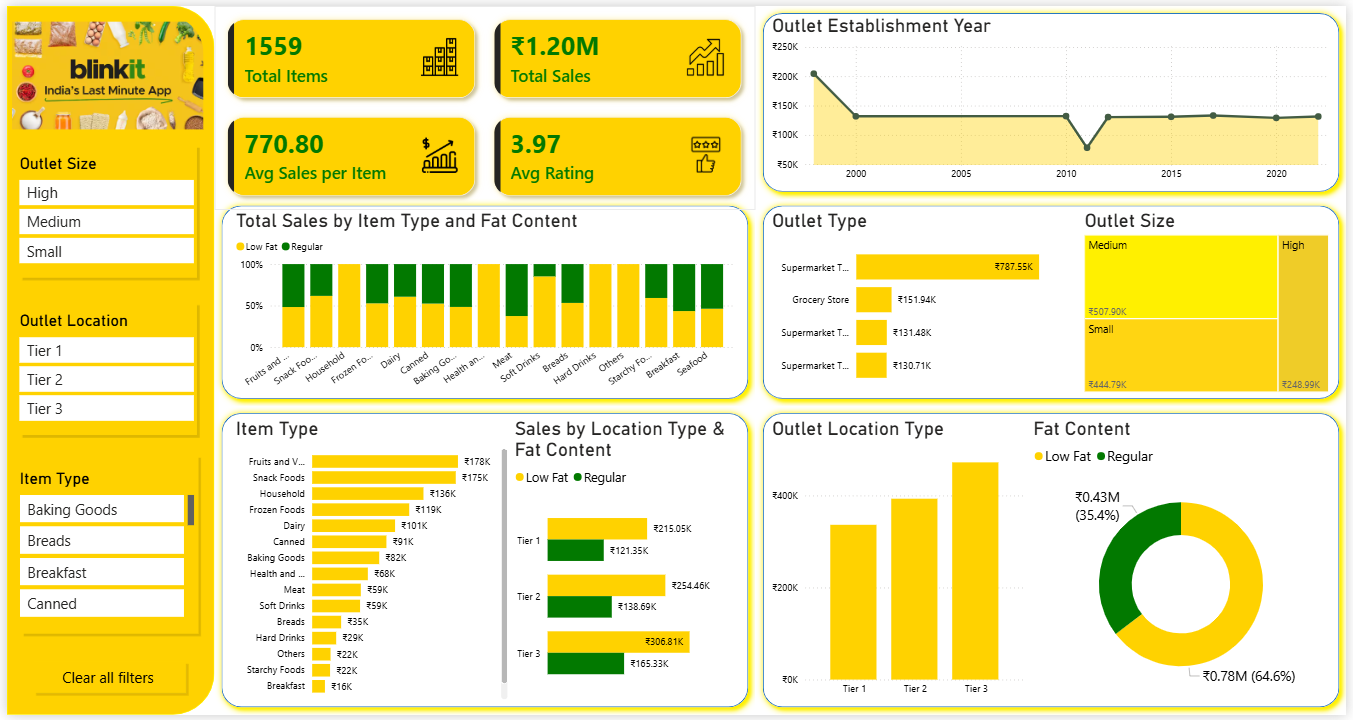

What the dashboard file says about the page in this screenshot:
{"tool":"powerbi","page":{"name":"Page 1","canvas":[1700,900],"ordinal":0},"visuals":[{"type":"shape","box":[0,0,263.3,900],"z":0},{"type":"shape","box":[11.7,171.7,235,178.3],"z":1000},{"type":"shape","box":[950,0,750,245],"z":2000},{"type":"shape","box":[263.3,245,686.7,263.3],"z":3000},{"type":"shape","box":[950,245,750,263.3],"z":4000},{"type":"shape","box":[950,508.3,750,391.7],"z":5000},{"type":"cardVisual","fields":{"Data":["public blinkit_data.No. of items","public blinkit_data.Total Sales","public blinkit_data.Avg Sales","public blinkit_data.Avg Rating"]},"box":[264,0,686,258],"z":6000},{"type":"shape","box":[263.3,508.3,686.7,391.7],"z":7000},{"type":"donutChart","title":"Fat Content","fields":{"Category":["public blinkit_data.item_fat_content"],"Y":["public blinkit_data.Total Sales"]},"box":[1298.3,521.7,385,363.3],"z":8000},{"type":"clusteredBarChart","title":"Outlet Type","fields":{"Category":["public blinkit_data.outlet_type"],"Y":["public blinkit_data.Total Sales"]},"box":[966.7,258.3,396.7,236.7],"z":9000},{"type":"clusteredBarChart","title":"Item Type","fields":{"Y":["public blinkit_data.Total Sales"],"Category":["public blinkit_data.item_type"]},"box":[285,521.7,355,363.3],"z":10000},{"type":"lineChart","title":"Outlet Establishment Year","fields":{"Y":["public blinkit_data.Total Sales"],"Category":["public blinkit_data.outlet_establishment_year"]},"box":[966.7,11.7,716.7,220],"z":11000},{"type":"clusteredColumnChart","title":"Outlet Location Type","fields":{"Y":["public blinkit_data.Total Sales"],"Category":["public blinkit_data.outlet_location_type"]},"box":[966.7,521.7,331.7,363.3],"z":12000},{"type":"treemap","title":"Outlet Size","fields":{"Values":["public blinkit_data.Total Sales"],"Group":["public blinkit_data.outlet_size"]},"box":[1363.3,258.3,320,236.7],"z":13000},{"type":"clusteredBarChart","title":"Sales by Location Type & Fat Content","fields":{"Series":["public blinkit_data.item_fat_content"],"Category":["public blinkit_data.outlet_location_type"],"Y":["public blinkit_data.Total Sales"]},"box":[640,521.7,288.3,363.3],"z":14000},{"type":"hundredPercentStackedColumnChart","title":"Total Sales by Item Type and Fat Content","fields":{"Y":["public blinkit_data.Total Sales"],"Category":["public blinkit_data.item_type"],"Series":["public blinkit_data.item_fat_content"]},"box":[285,258.3,643.3,236.7],"z":15000},{"type":"image","box":[6.7,11.7,243.3,155],"z":16000},{"type":"listSlicer","title":"Outlet Size","fields":{"Values":["public blinkit_data.outlet_size"]},"box":[11.7,186.7,231.7,145],"z":17000},{"type":"shape","box":[11,371,235,178.3],"z":18000},{"type":"listSlicer","title":"Outlet Location","fields":{"Values":["public blinkit_data.outlet_location_type"]},"box":[11.7,386.7,231.7,145],"z":19000},{"type":"shape","box":[13.3,565,235,236.7],"z":20000},{"type":"listSlicer","title":"Item Type","fields":{"Values":["public blinkit_data.item_type"]},"box":[11.7,586.7,231.7,193.3],"z":21000},{"type":"actionButton","box":[28.3,826.7,203.3,50],"z":22000}]}

Visuals, with their boxes in screenshot pixels (x1, y1, x2, y2), scaled from the page's 1700x900 canvas onto the 1353x720 screenshot:
shape: {"x1": 0, "y1": 0, "x2": 210, "y2": 719}
shape: {"x1": 9, "y1": 137, "x2": 196, "y2": 280}
shape: {"x1": 756, "y1": 0, "x2": 1352, "y2": 196}
shape: {"x1": 210, "y1": 196, "x2": 756, "y2": 407}
shape: {"x1": 756, "y1": 196, "x2": 1352, "y2": 407}
shape: {"x1": 756, "y1": 407, "x2": 1352, "y2": 719}
cardVisual - public blinkit_data.No. of items x public blinkit_data.Total Sales: {"x1": 210, "y1": 0, "x2": 756, "y2": 206}
shape: {"x1": 210, "y1": 407, "x2": 756, "y2": 719}
"Fat Content" donutChart: {"x1": 1033, "y1": 417, "x2": 1340, "y2": 708}
"Outlet Type" clusteredBarChart: {"x1": 769, "y1": 207, "x2": 1085, "y2": 396}
"Item Type" clusteredBarChart: {"x1": 227, "y1": 417, "x2": 509, "y2": 708}
"Outlet Establishment Year" lineChart: {"x1": 769, "y1": 9, "x2": 1340, "y2": 185}
"Outlet Location Type" clusteredColumnChart: {"x1": 769, "y1": 417, "x2": 1033, "y2": 708}
"Outlet Size" treemap: {"x1": 1085, "y1": 207, "x2": 1340, "y2": 396}
"Sales by Location Type & Fat Content" clusteredBarChart: {"x1": 509, "y1": 417, "x2": 739, "y2": 708}
"Total Sales by Item Type and Fat Content" hundredPercentStackedColumnChart: {"x1": 227, "y1": 207, "x2": 739, "y2": 396}
image: {"x1": 5, "y1": 9, "x2": 199, "y2": 133}
"Outlet Size" listSlicer: {"x1": 9, "y1": 149, "x2": 194, "y2": 265}
shape: {"x1": 9, "y1": 297, "x2": 196, "y2": 439}
"Outlet Location" listSlicer: {"x1": 9, "y1": 309, "x2": 194, "y2": 425}
shape: {"x1": 11, "y1": 452, "x2": 198, "y2": 641}
"Item Type" listSlicer: {"x1": 9, "y1": 469, "x2": 194, "y2": 624}
actionButton: {"x1": 23, "y1": 661, "x2": 184, "y2": 701}
